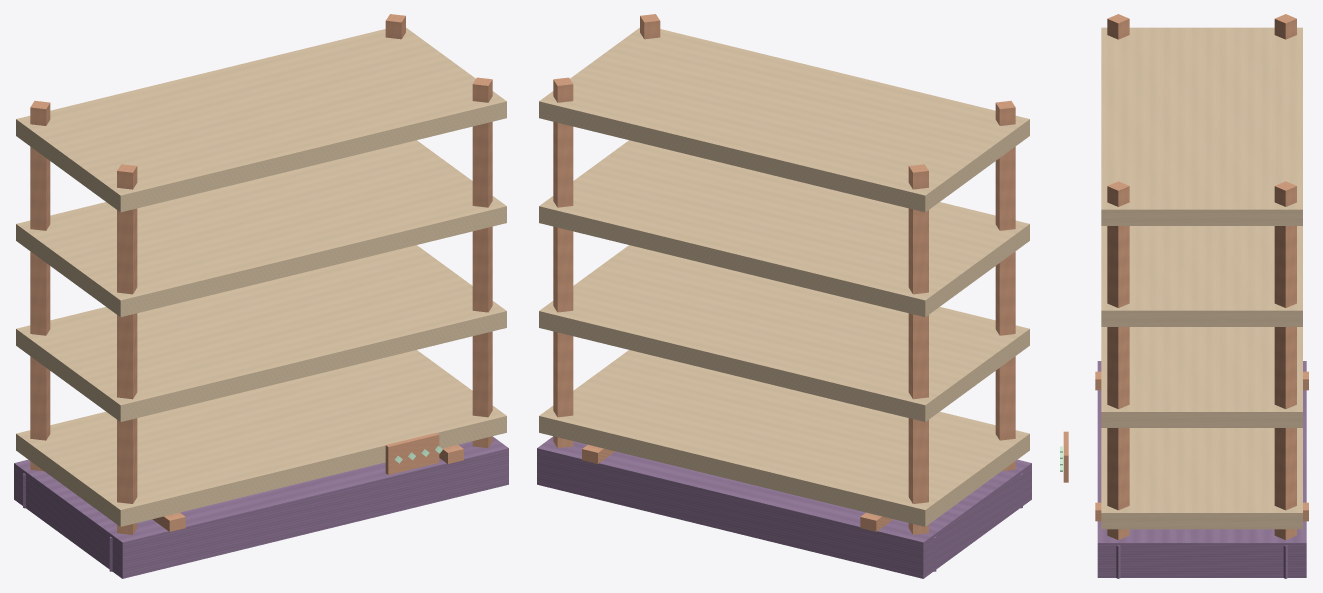
File: atlas100-s090-a06.glb
3 renders of one model, left to right at view 1: azimuth 30°, elevation 25°; view 2: azimuth 150°, elevation 25°; view 3: azimuth 270°, elevation 25°, orthographic. The views are drawn at different scales.
Parts seen in each view (by area): view 1: atlas100-s090-a06:part-014, atlas100-s090-a06:part-012, atlas100-s090-a06:part-013, atlas100-s090-a06:part-011, atlas100-s090-a06:part-000, atlas100-s090-a06:part-005, atlas100-s090-a06:part-009, atlas100-s090-a06:part-003, atlas100-s090-a06:part-015; view 2: atlas100-s090-a06:part-014, atlas100-s090-a06:part-012, atlas100-s090-a06:part-011, atlas100-s090-a06:part-013, atlas100-s090-a06:part-000, atlas100-s090-a06:part-003, atlas100-s090-a06:part-007, atlas100-s090-a06:part-005; view 3: atlas100-s090-a06:part-014, atlas100-s090-a06:part-011, atlas100-s090-a06:part-013, atlas100-s090-a06:part-012, atlas100-s090-a06:part-000, atlas100-s090-a06:part-009, atlas100-s090-a06:part-007, atlas100-s090-a06:part-005, atlas100-s090-a06:part-003.
Boxes of the visible parts, bbox=[...] form: atlas100-s090-a06:part-014: bbox=[16, 27, 506, 212]; atlas100-s090-a06:part-012: bbox=[16, 245, 506, 421]; atlas100-s090-a06:part-013: bbox=[16, 140, 506, 317]; atlas100-s090-a06:part-011: bbox=[16, 350, 506, 526]; atlas100-s090-a06:part-000: bbox=[14, 436, 508, 578]; atlas100-s090-a06:part-005: bbox=[117, 164, 137, 534]; atlas100-s090-a06:part-009: bbox=[472, 77, 492, 448]; atlas100-s090-a06:part-003: bbox=[30, 100, 50, 471]; atlas100-s090-a06:part-015: bbox=[385, 432, 439, 474]; atlas100-s090-a06:part-014: bbox=[539, 27, 1029, 212]; atlas100-s090-a06:part-012: bbox=[539, 245, 1029, 421]; atlas100-s090-a06:part-011: bbox=[539, 350, 1029, 526]; atlas100-s090-a06:part-013: bbox=[539, 140, 1029, 317]; atlas100-s090-a06:part-000: bbox=[537, 436, 1031, 578]; atlas100-s090-a06:part-003: bbox=[908, 164, 928, 534]; atlas100-s090-a06:part-007: bbox=[553, 77, 573, 448]; atlas100-s090-a06:part-005: bbox=[995, 100, 1015, 471]; atlas100-s090-a06:part-014: bbox=[1101, 27, 1302, 225]; atlas100-s090-a06:part-011: bbox=[1101, 428, 1302, 529]; atlas100-s090-a06:part-013: bbox=[1101, 226, 1302, 326]; atlas100-s090-a06:part-012: bbox=[1101, 327, 1302, 427]; atlas100-s090-a06:part-000: bbox=[1097, 361, 1306, 577]; atlas100-s090-a06:part-009: bbox=[1107, 181, 1129, 540]; atlas100-s090-a06:part-007: bbox=[1274, 181, 1296, 540]; atlas100-s090-a06:part-005: bbox=[1107, 14, 1129, 39]; atlas100-s090-a06:part-003: bbox=[1274, 14, 1296, 39].
Size of the model in its own units: 2.91 by 2.84 by 1.66.
Materials: 4 (4 with a texture image).
